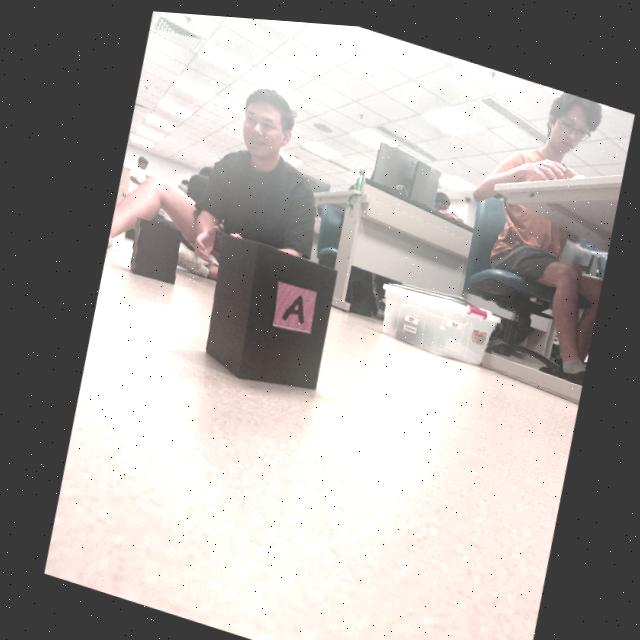A: (278, 291, 300, 319)
